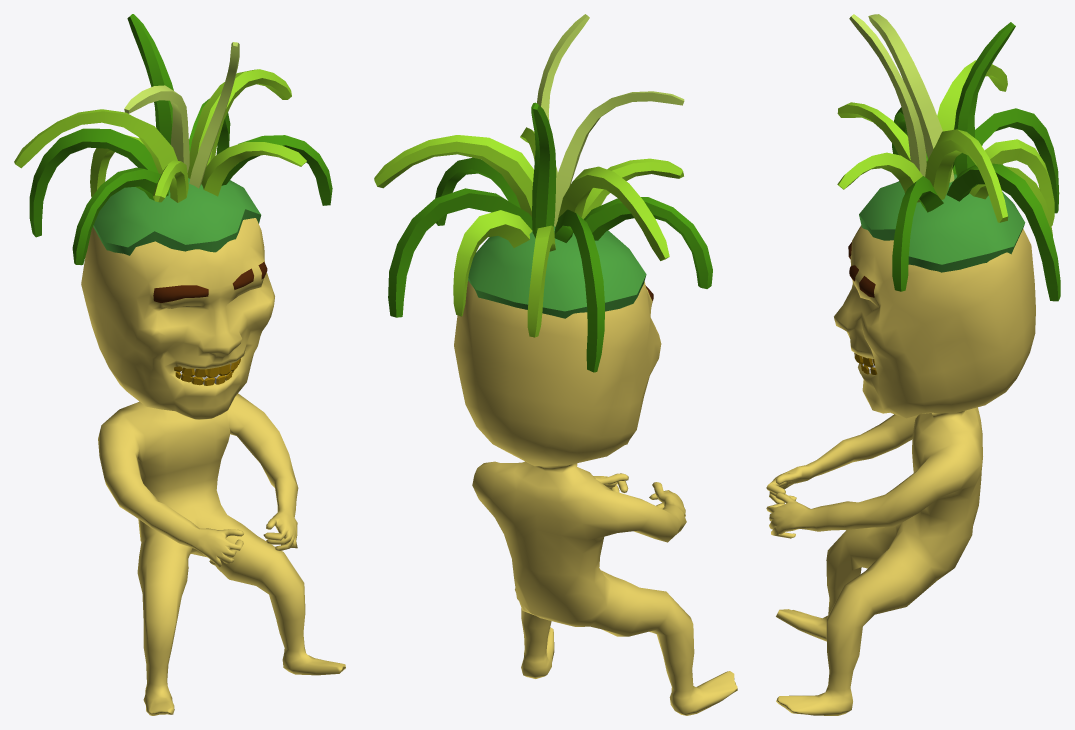
File: Morgen_sit.fbx
3 views of the same model, side by side, from view 1: azimuth 30°, elevation 25°; view 2: azimuth 150°, elevation 25°; view 3: azimuth 270°, elevation 25° (orthographic). The views are drawn at different scales.
Parts seen in each view (by area): view 1: Morgen_sit; view 2: Morgen_sit; view 3: Morgen_sit.
Part boxes in pixels (x1,y1,x2,y2): Morgen_sit: [14, 14, 345, 715]; Morgen_sit: [374, 14, 737, 715]; Morgen_sit: [766, 14, 1060, 715].
Size of the model in its own units: 5 by 11.03 by 4.39.
